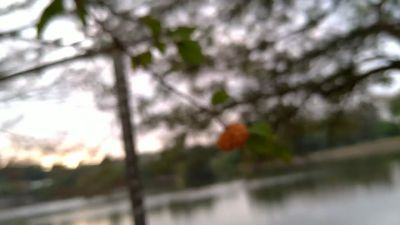eggs: (219, 122, 249, 151)
